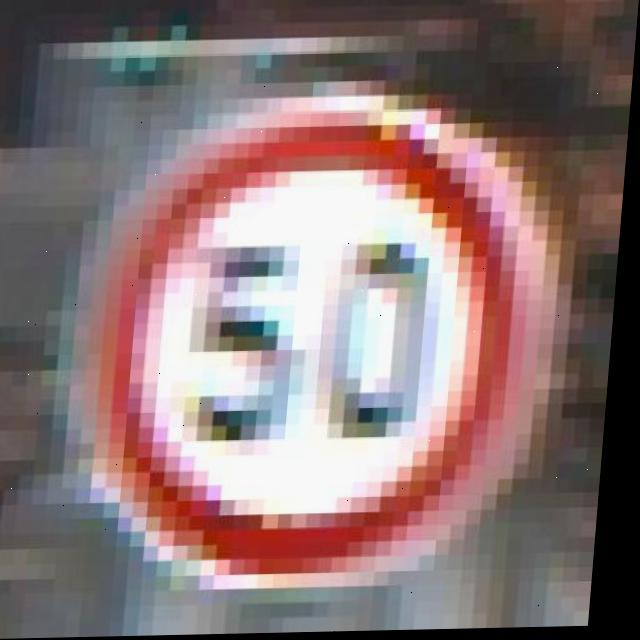Speed limit 50: (83, 88, 550, 594)
